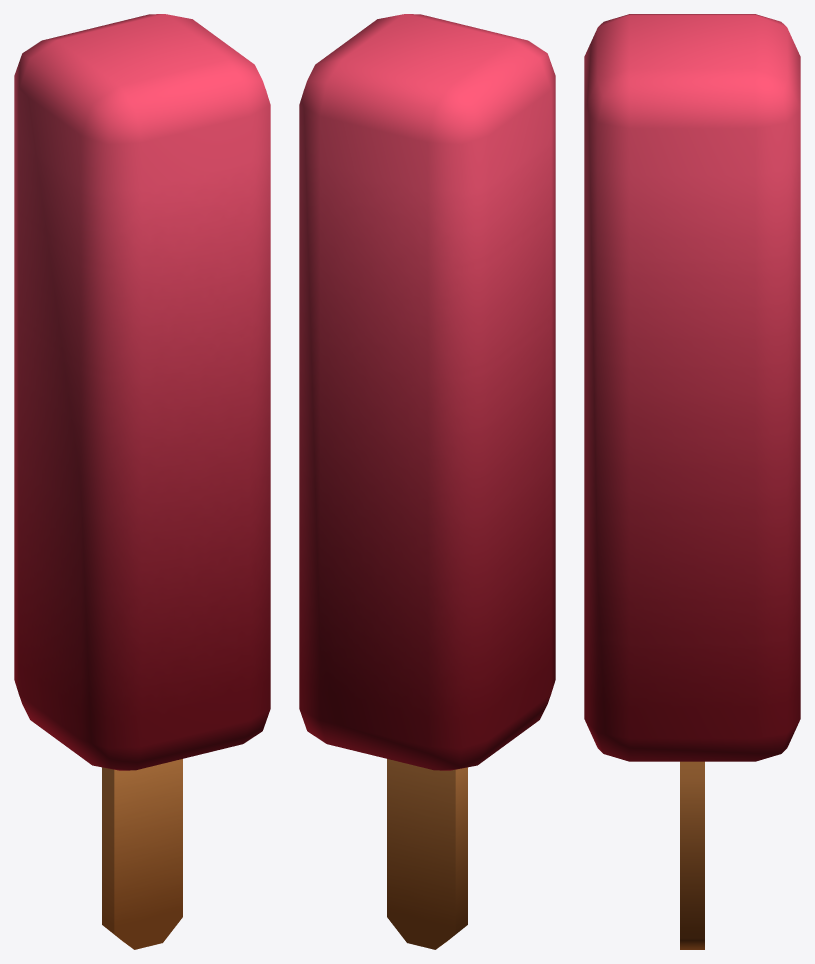
Rendered from m_SquarePopsicle07.fbx.
3 views of the same model, side by side, from view 1: azimuth 30°, elevation 25°; view 2: azimuth 150°, elevation 25°; view 3: azimuth 270°, elevation 25° (orthographic).
Parts seen in each view (by area): view 1: m_SquarePopsicle07; view 2: m_SquarePopsicle07; view 3: m_SquarePopsicle07.
Part boxes in pixels (x1,y1,x2,y2): m_SquarePopsicle07: [14, 14, 270, 949]; m_SquarePopsicle07: [299, 14, 555, 949]; m_SquarePopsicle07: [584, 14, 800, 949].
Size of the model in its own units: 5 by 23.01 by 5.
